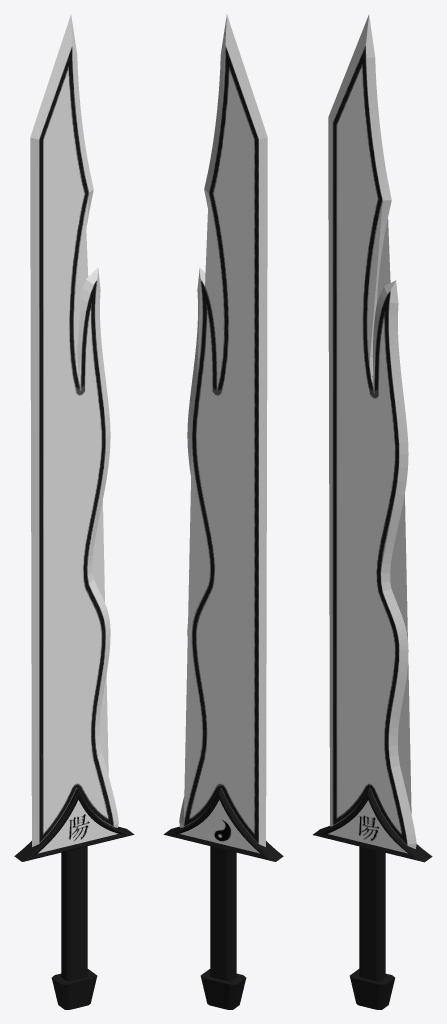
The model's file is 阳魂剑.fbx.
3 renders of one model, left to right at view 1: azimuth 30°, elevation 25°; view 2: azimuth 150°, elevation 25°; view 3: azimuth 330°, elevation 25°, orthographic.
Visible parts, largest first — view 1: 阳魂剑; view 2: 阳魂剑; view 3: 阳魂剑.
Part boxes in pixels (<box>): 阳魂剑: <box>14,14,134,1009</box>; 阳魂剑: <box>163,14,283,1009</box>; 阳魂剑: <box>313,14,432,1009</box>.
Size of the model in its own units: 106 by 896 by 21.26.
Materials: 1 (1 with a texture image).
